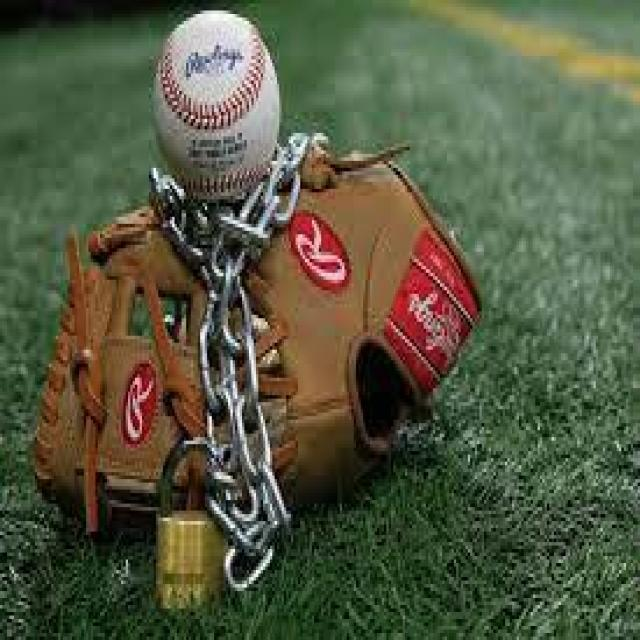baseball: (153, 7, 278, 199)
